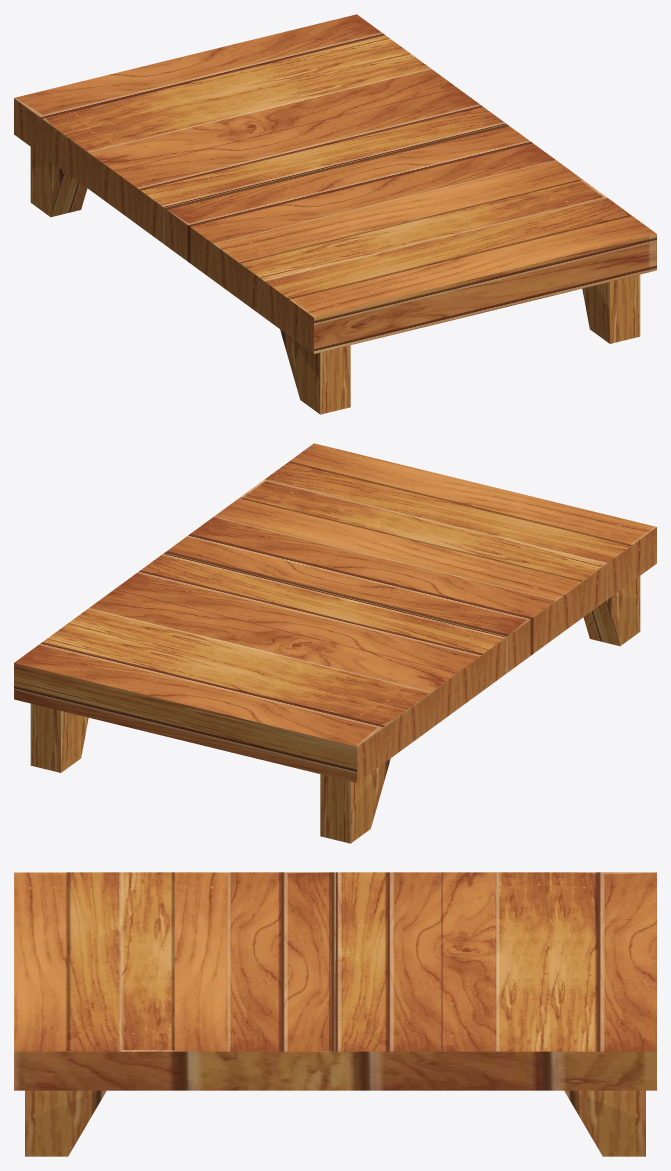
The model's file is Bench.fbx.
3 views of the same model, one above another, from view 1: azimuth 30°, elevation 25°; view 2: azimuth 150°, elevation 25°; view 3: azimuth 270°, elevation 25° (orthographic). The views are drawn at different scales.
Visible parts, largest first — view 1: Cube, Cube.001; view 2: Cube, Cube.001; view 3: Cube, Cube.001.
Part boxes in pixels (left/top/right/bottom): Cube: left=14, top=14, right=656, bottom=353; Cube.001: left=30, top=147, right=640, bottom=414; Cube: left=14, top=443, right=656, bottom=782; Cube.001: left=30, top=576, right=640, bottom=843; Cube: left=14, top=872, right=656, bottom=1090; Cube.001: left=25, top=1090, right=645, bottom=1156.
Bounding box in the file's own units: 319 × 92.21 × 484.
Materials: 2 (2 with a texture image).
